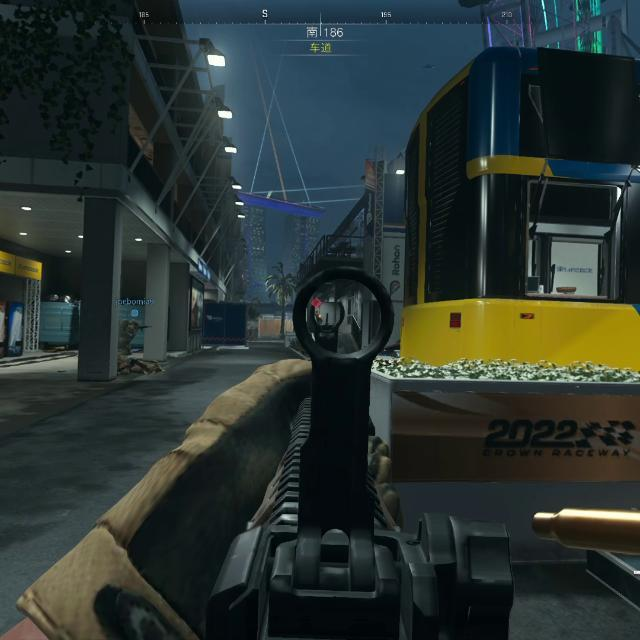MW2_body: (308, 297, 324, 325)
